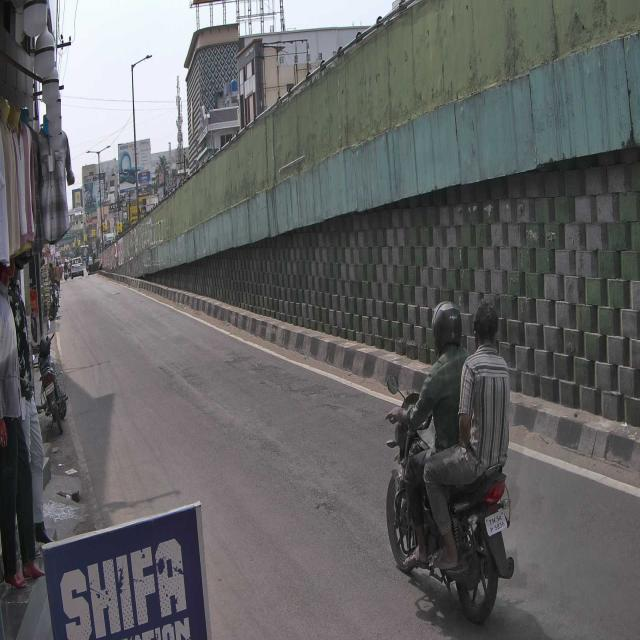double_rider: (385, 296, 515, 628)
